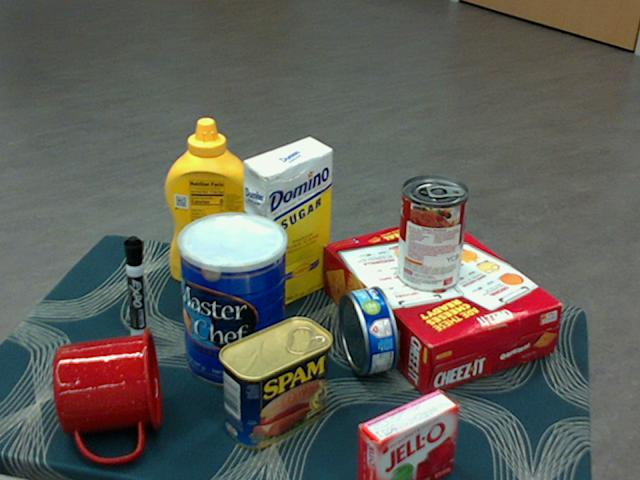cracker_box: (321, 216, 559, 392)
gelatin_box: (355, 390, 456, 479)
large_marker: (123, 236, 147, 343)
master_chef_can: (179, 213, 288, 388)
mug: (54, 327, 162, 463)
mustard_bottle: (164, 118, 254, 287)
potted_meat_can: (219, 317, 332, 449)
sugar_box: (244, 138, 333, 314)
tomato_soup_can: (396, 177, 468, 293)
tuna_fish_can: (339, 285, 399, 374)
